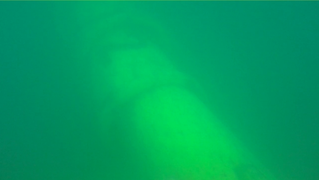2: (97, 31, 148, 66)
pipe: (65, 1, 279, 179)
